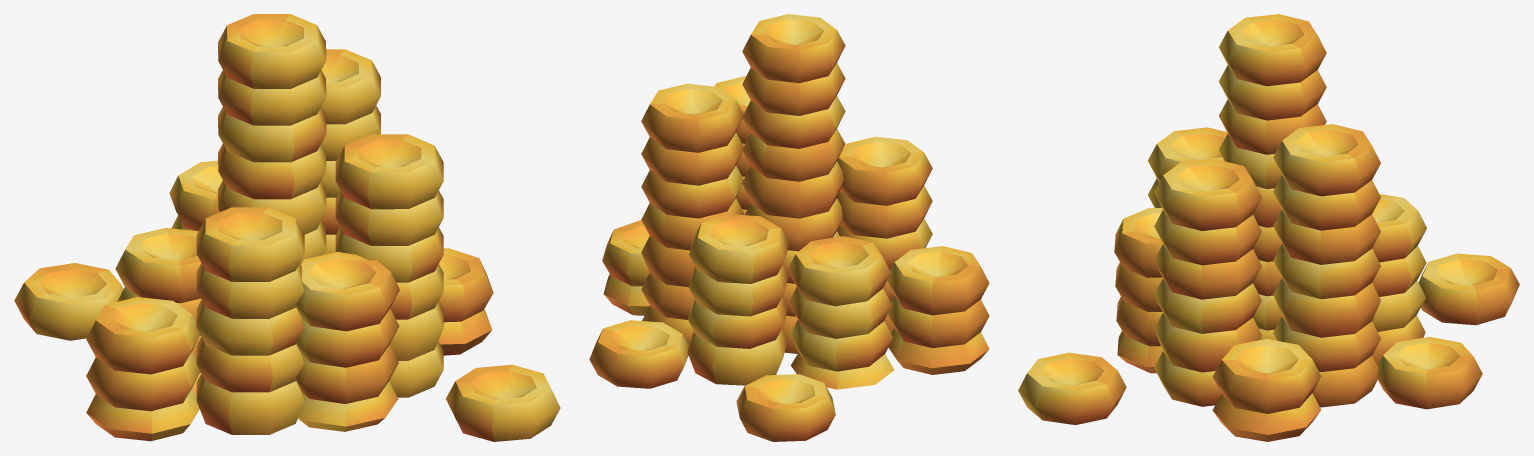
File: coin_stack_large.glb
3 views of the same model, side by side, from view 1: azimuth 30°, elevation 25°; view 2: azimuth 150°, elevation 25°; view 3: azimuth 270°, elevation 25° (orthographic). The views are drawn at different scales.
Visible parts, largest first — view 1: coin_stack_large; view 2: coin_stack_large; view 3: coin_stack_large.
Part boxes in pixels (<box>): coin_stack_large: <box>14,14,560,441</box>; coin_stack_large: <box>589,14,989,441</box>; coin_stack_large: <box>1018,14,1519,441</box>.
Size of the model in its own units: 1.44 by 1.16 by 1.66.
1 material, 1 textured.
